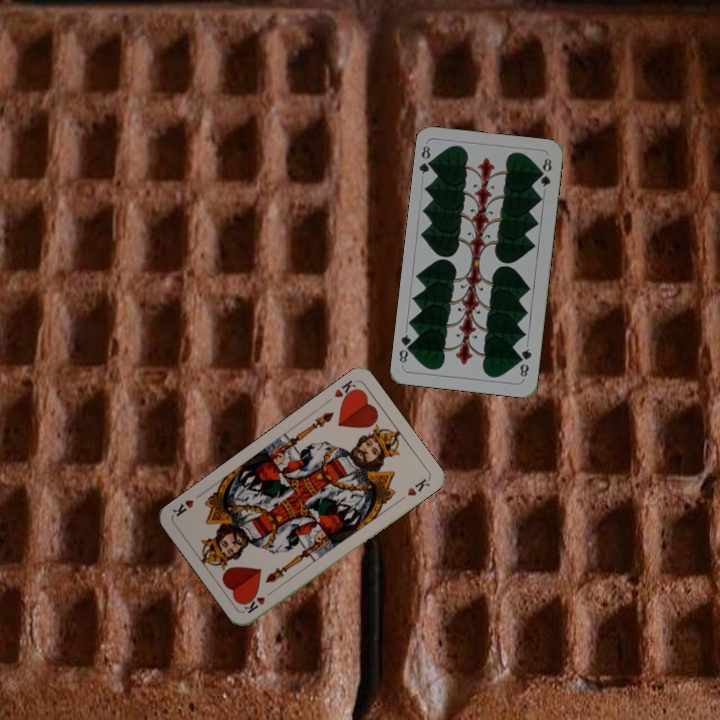G8: (416, 142, 437, 177), (516, 344, 534, 380)
HK: (240, 586, 277, 616), (330, 376, 362, 405)
